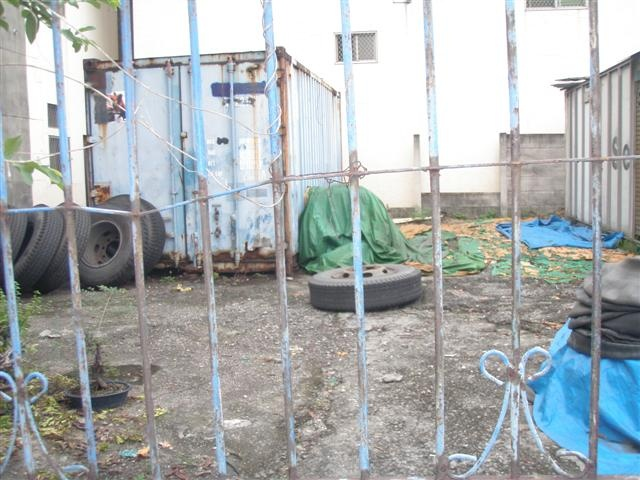plastic_bag: (362, 186, 433, 266), (535, 357, 593, 451), (597, 361, 640, 476), (307, 184, 350, 270), (519, 217, 594, 248), (442, 234, 485, 274)
tire: (308, 262, 424, 312), (9, 203, 62, 296)
